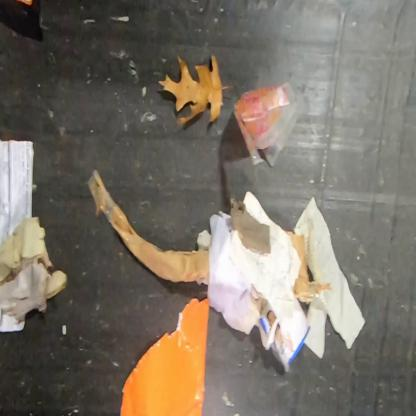cardboard: (196, 190, 314, 374), (117, 295, 212, 415)
rigid_plastic: (231, 80, 303, 170)
soft_plastic: (14, 0, 36, 11)
